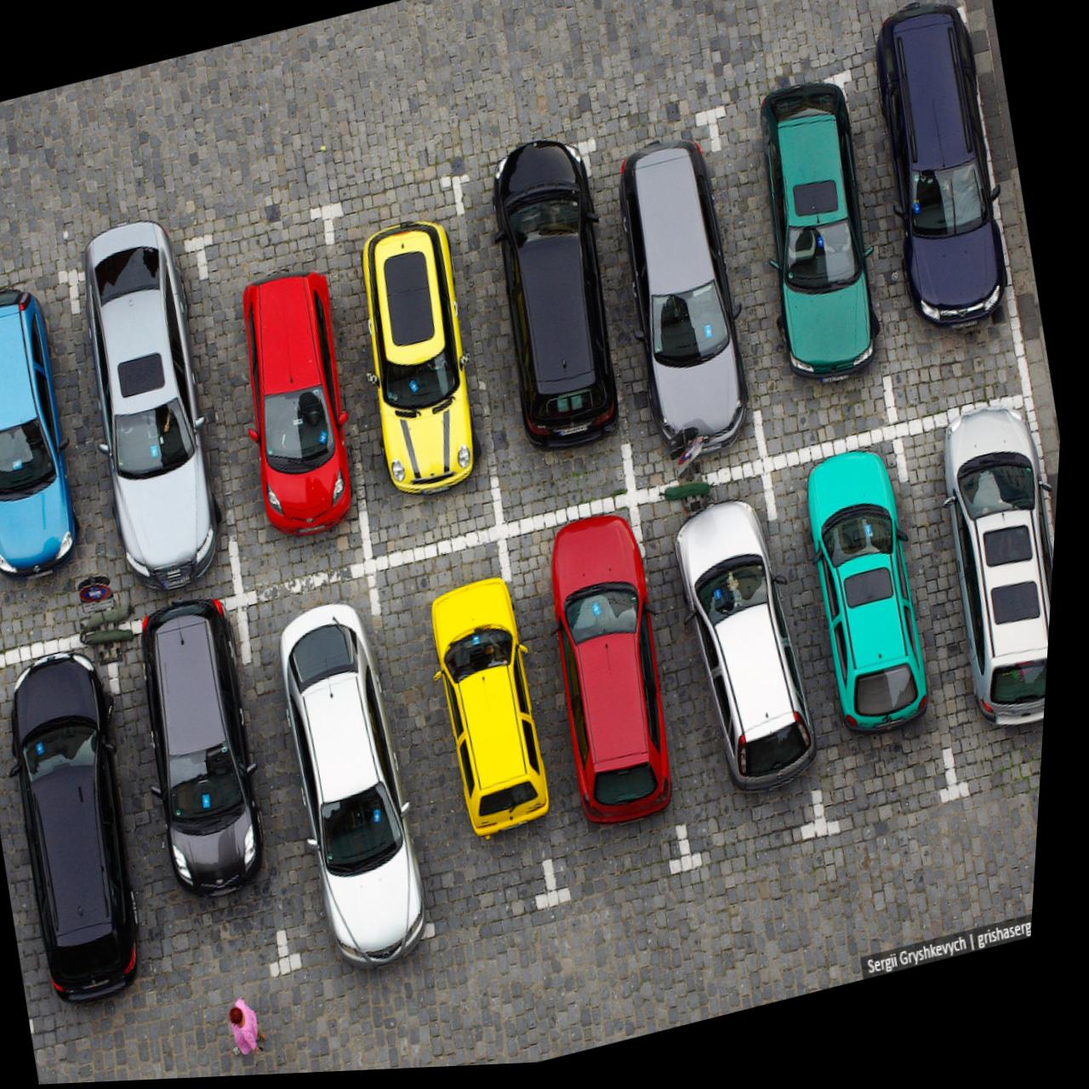cars: (328, 533, 574, 947), (471, 493, 714, 908), (75, 597, 316, 1006), (736, 430, 976, 834), (423, 135, 664, 534), (205, 566, 444, 966), (813, 20, 1046, 430), (294, 186, 532, 584), (687, 74, 920, 472), (38, 242, 275, 633), (168, 212, 408, 598), (553, 107, 785, 504), (608, 459, 838, 856), (0, 630, 183, 1036), (877, 404, 1062, 800), (0, 259, 151, 660)
